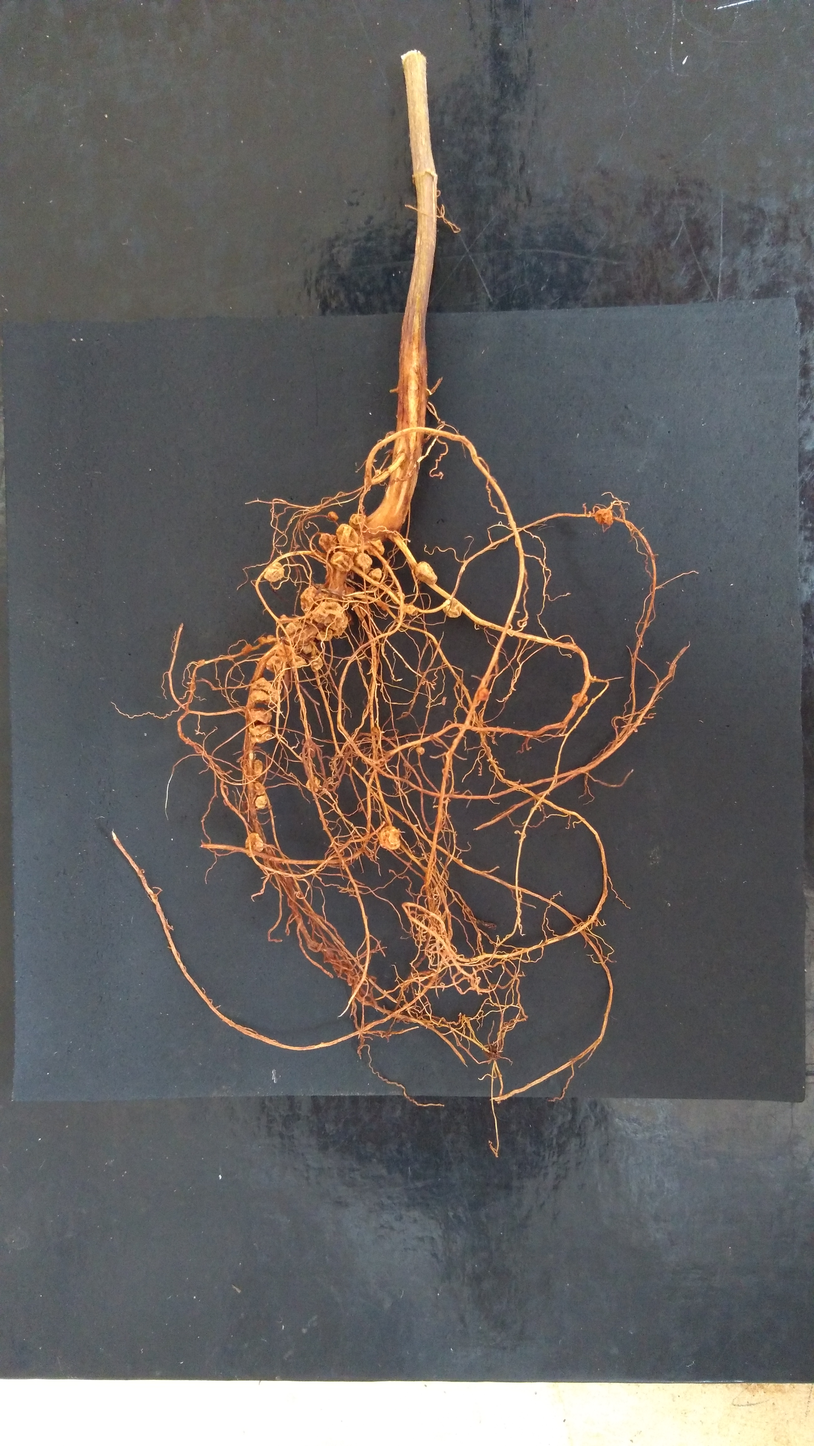nodule: (312, 602, 348, 636), (251, 677, 278, 705), (336, 524, 359, 547), (415, 561, 437, 585), (379, 826, 400, 850), (330, 551, 353, 572), (249, 724, 272, 744), (301, 586, 318, 613), (245, 832, 263, 857), (318, 533, 338, 553), (264, 562, 284, 582), (353, 553, 372, 574), (442, 599, 462, 617), (248, 708, 272, 723), (366, 539, 384, 557), (595, 509, 613, 525), (266, 656, 283, 672), (308, 655, 323, 672), (349, 514, 366, 529), (285, 622, 306, 634), (571, 692, 587, 707), (486, 1045, 500, 1060), (306, 777, 320, 792), (316, 628, 332, 641), (368, 568, 382, 582), (277, 644, 292, 656), (291, 655, 306, 667), (253, 760, 263, 778), (391, 592, 405, 604), (302, 642, 315, 654), (255, 796, 267, 809), (404, 605, 418, 616), (254, 782, 265, 795), (358, 603, 368, 617), (478, 688, 488, 701), (313, 593, 327, 602), (343, 547, 358, 555), (241, 644, 252, 654), (286, 651, 295, 663), (328, 511, 338, 521), (345, 596, 355, 605), (283, 636, 292, 645), (345, 586, 355, 594), (385, 431, 395, 439), (280, 614, 288, 624), (430, 972, 439, 980), (267, 635, 274, 645), (416, 747, 424, 755), (257, 637, 266, 644), (372, 727, 380, 734), (310, 748, 316, 757), (381, 604, 388, 611), (441, 697, 446, 706), (376, 601, 383, 607), (387, 449, 393, 456), (198, 659, 205, 665), (375, 470, 381, 476), (248, 753, 253, 760), (361, 598, 367, 602)
